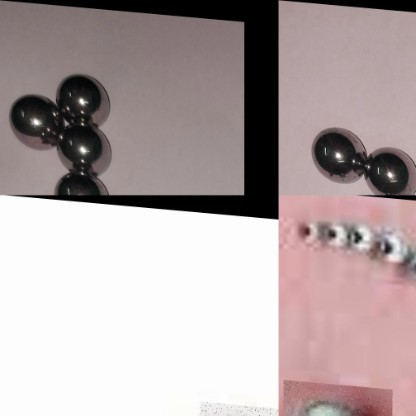ironball: (283, 378, 392, 415), (304, 120, 366, 185), (53, 68, 113, 130), (54, 118, 113, 174), (7, 92, 61, 153), (367, 141, 412, 194), (44, 168, 117, 196), (377, 212, 404, 269), (292, 205, 319, 250), (316, 207, 347, 245), (349, 212, 373, 255), (406, 233, 415, 286)
